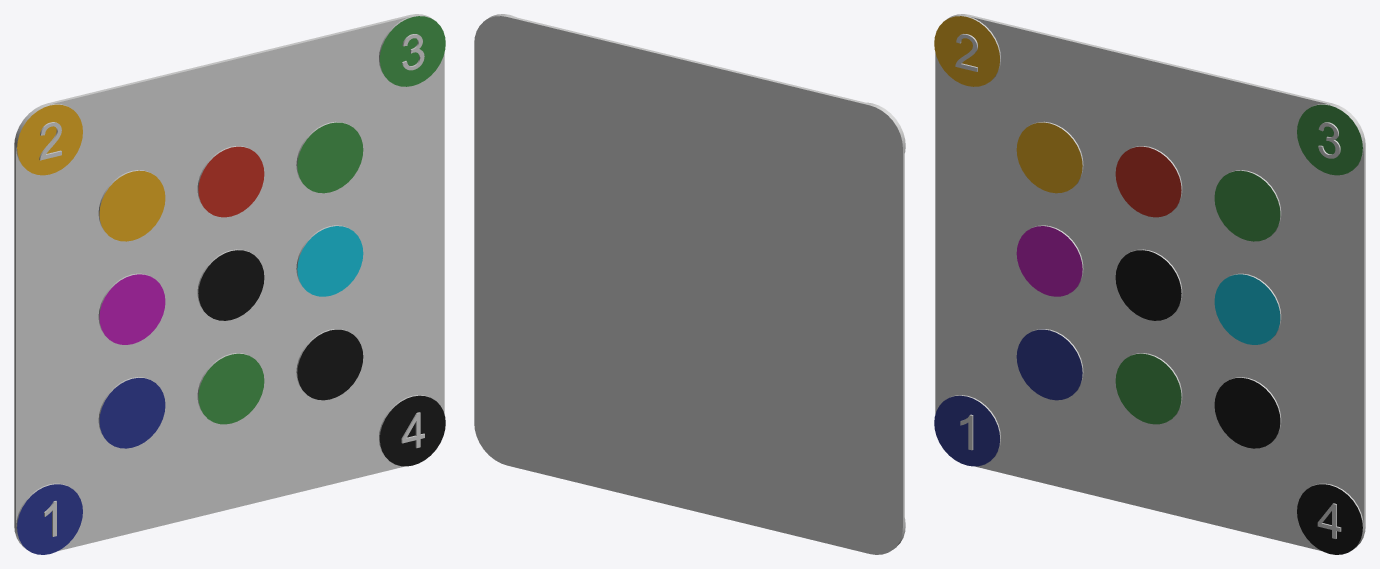
3 renders of one model, left to right at view 1: azimuth 30°, elevation 25°; view 2: azimuth 150°, elevation 25°; view 3: azimuth 330°, elevation 25°, orthographic.
Parts seen in each view (by area): view 1: Body1; view 2: Body1; view 3: Body1.
Part boxes in pixels (x1,y1,x2,y2): Body1: [14, 14, 445, 554]; Body1: [474, 14, 905, 554]; Body1: [934, 14, 1365, 554].
Bounding box in the file's own units: 260 × 260 × 4.
